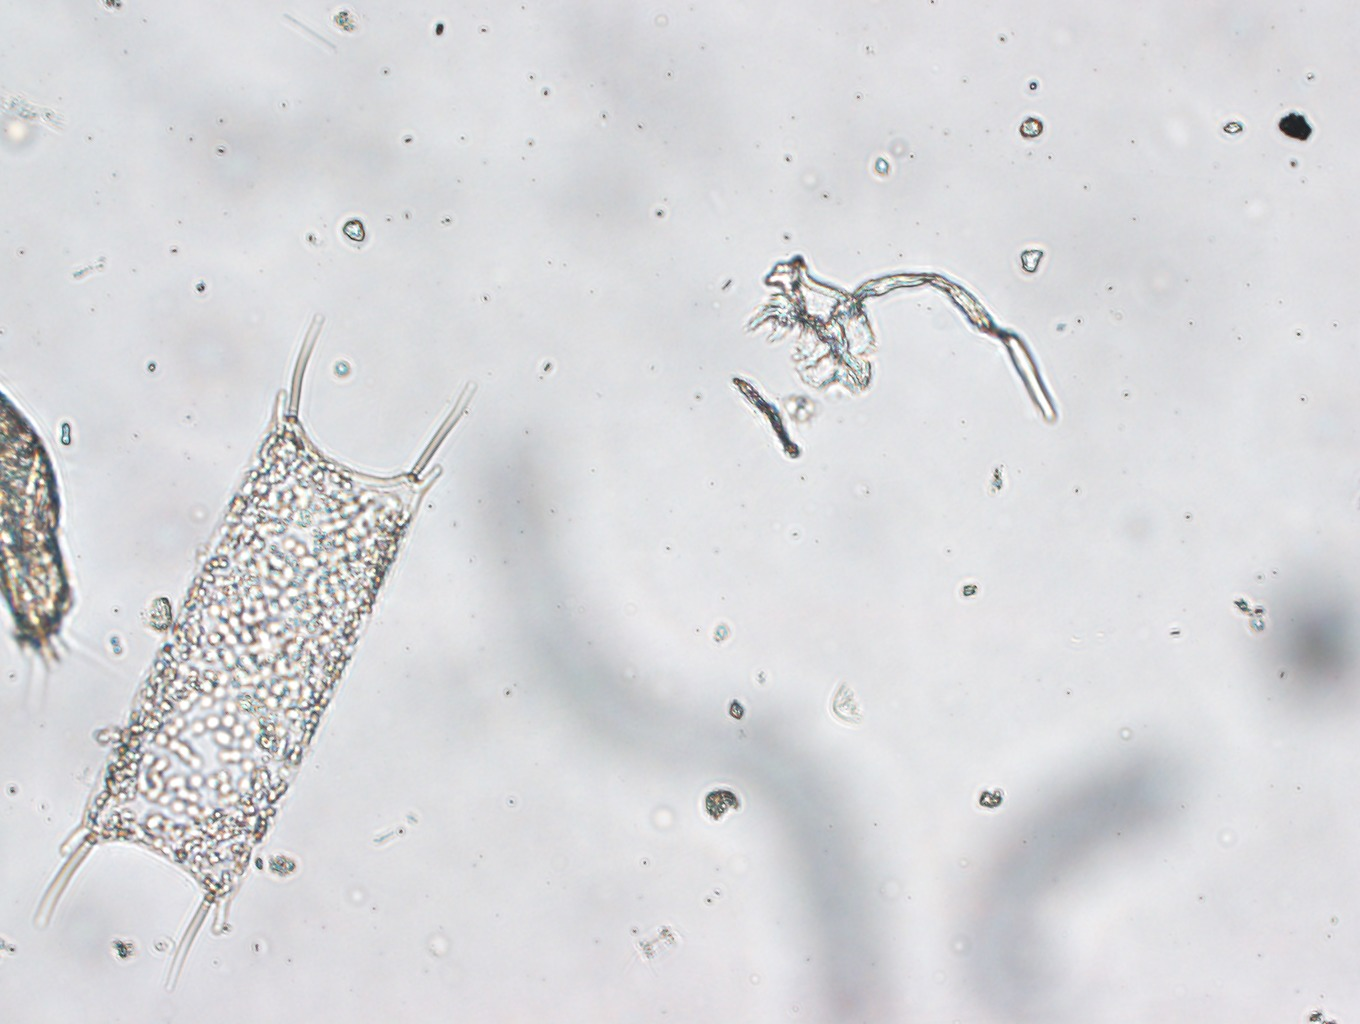biddulphia: (27, 301, 479, 989)
